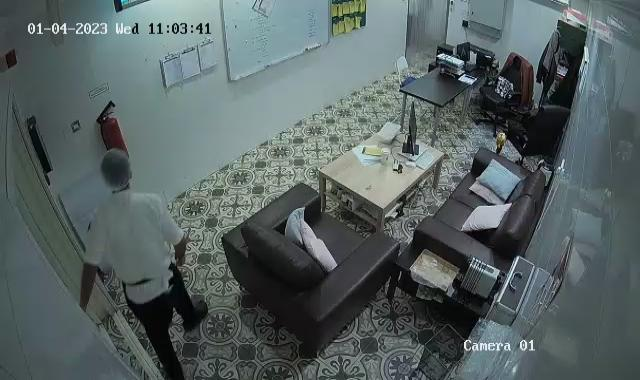hairnet: (93, 149, 136, 191)
